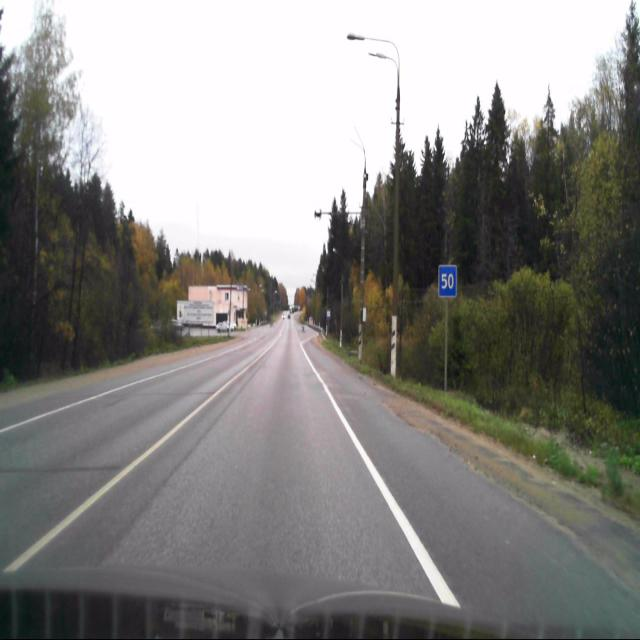road sign: (438, 266, 456, 296)
